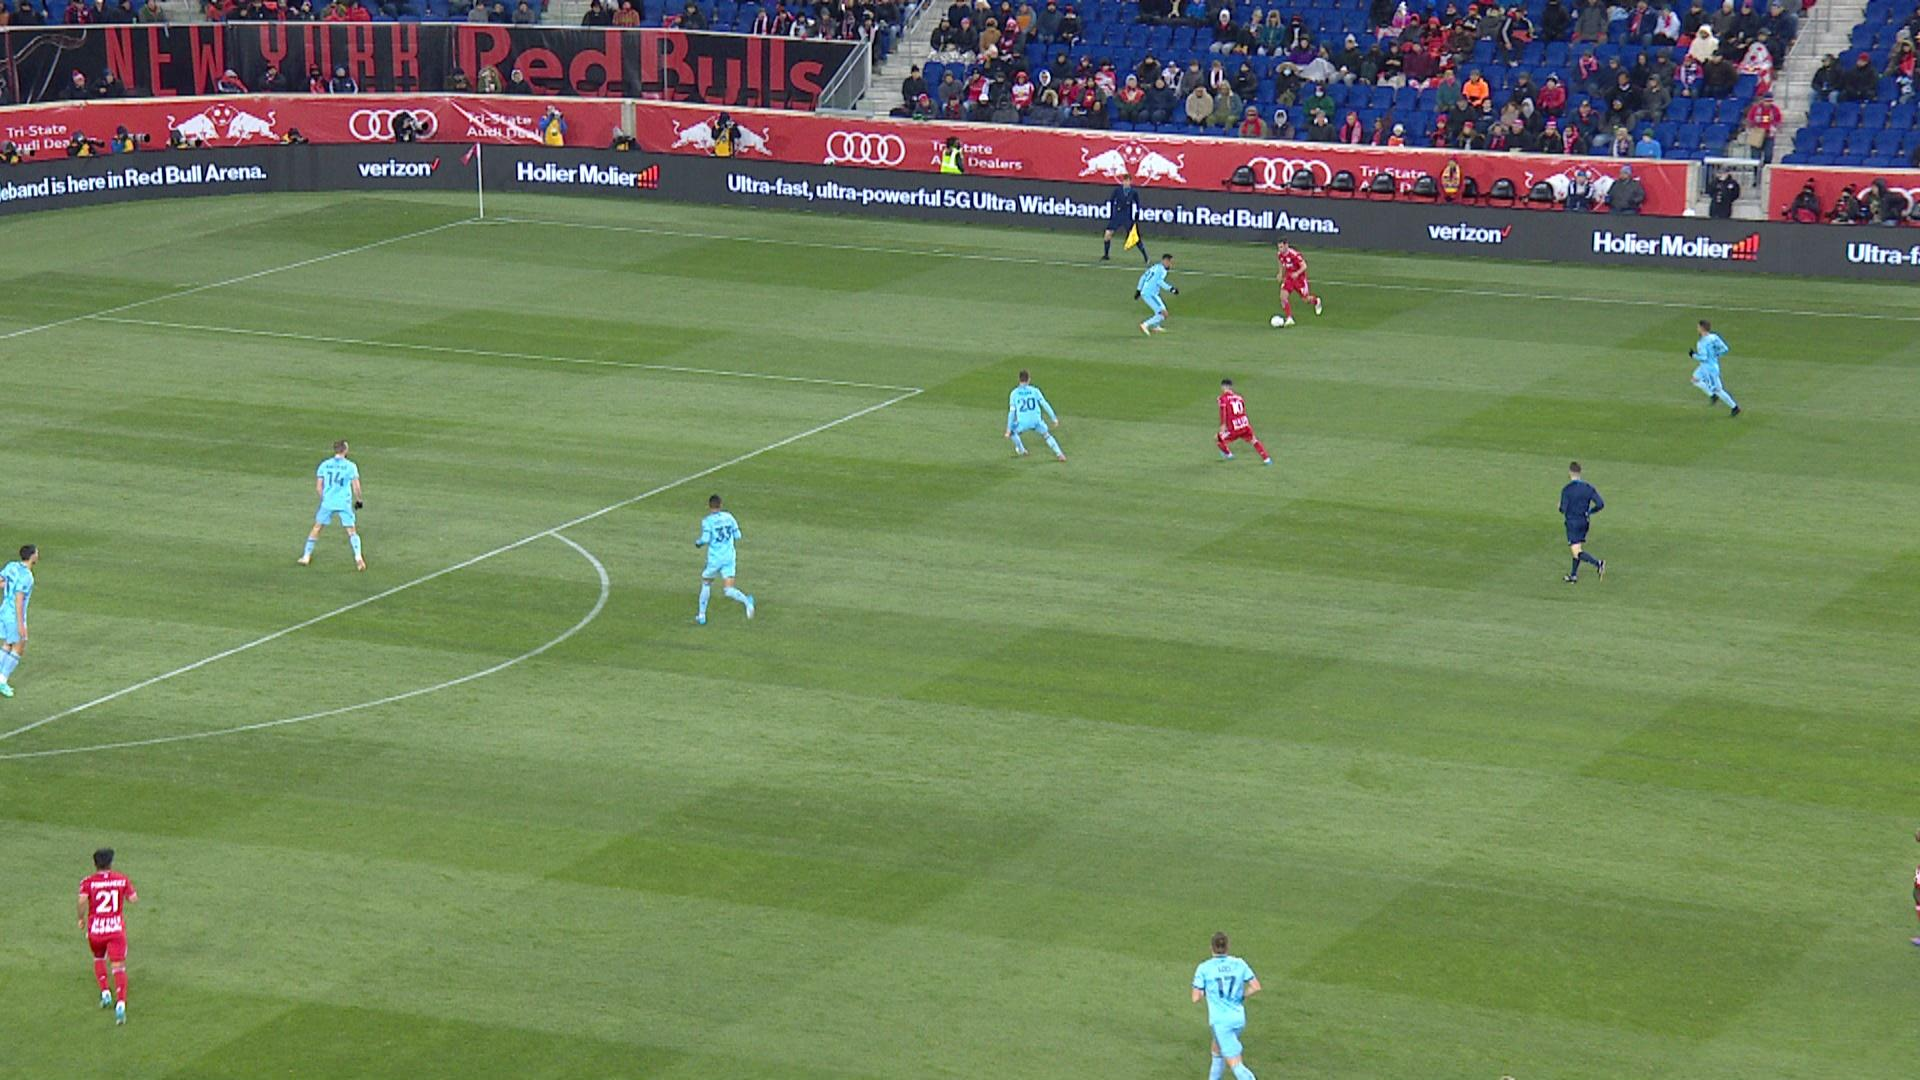football: (1270, 314, 1284, 328)
